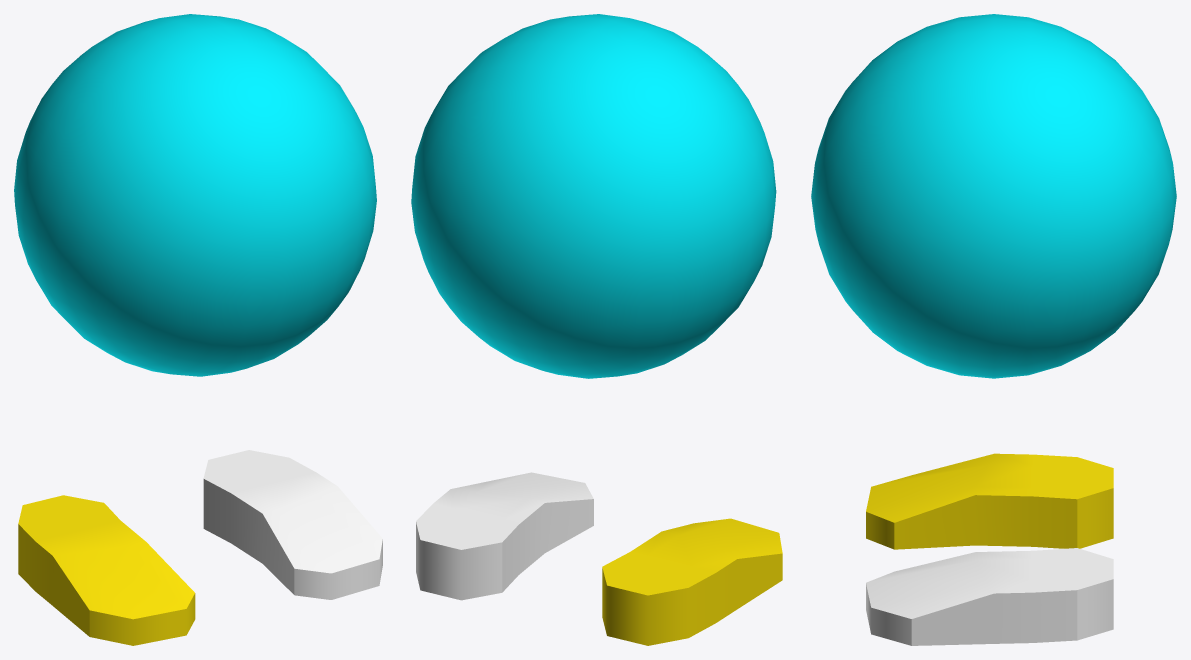
Rendered from BallManV9.fbx.
The picture shows the model from 3 angles, left to right: view 1: azimuth 30°, elevation 25°; view 2: azimuth 150°, elevation 25°; view 3: azimuth 270°, elevation 25°; orthographic projection.
Visible parts, largest first — view 1: PlayerObj, LeftFoot, RightFoot; view 2: PlayerObj, RightFoot, LeftFoot; view 3: PlayerObj, LeftFoot, RightFoot.
Part boxes in pixels (box(x1,y1,x2,y2)): PlayerObj: box(14, 14, 376, 376); LeftFoot: box(203, 450, 382, 599); RightFoot: box(18, 495, 195, 645); PlayerObj: box(411, 14, 776, 378); RightFoot: box(602, 518, 782, 645); LeftFoot: box(416, 472, 593, 600); PlayerObj: box(811, 14, 1176, 378); LeftFoot: box(866, 548, 1113, 645); RightFoot: box(866, 453, 1113, 549).
Size of the model in its own units: 1 by 1.64 by 1.
